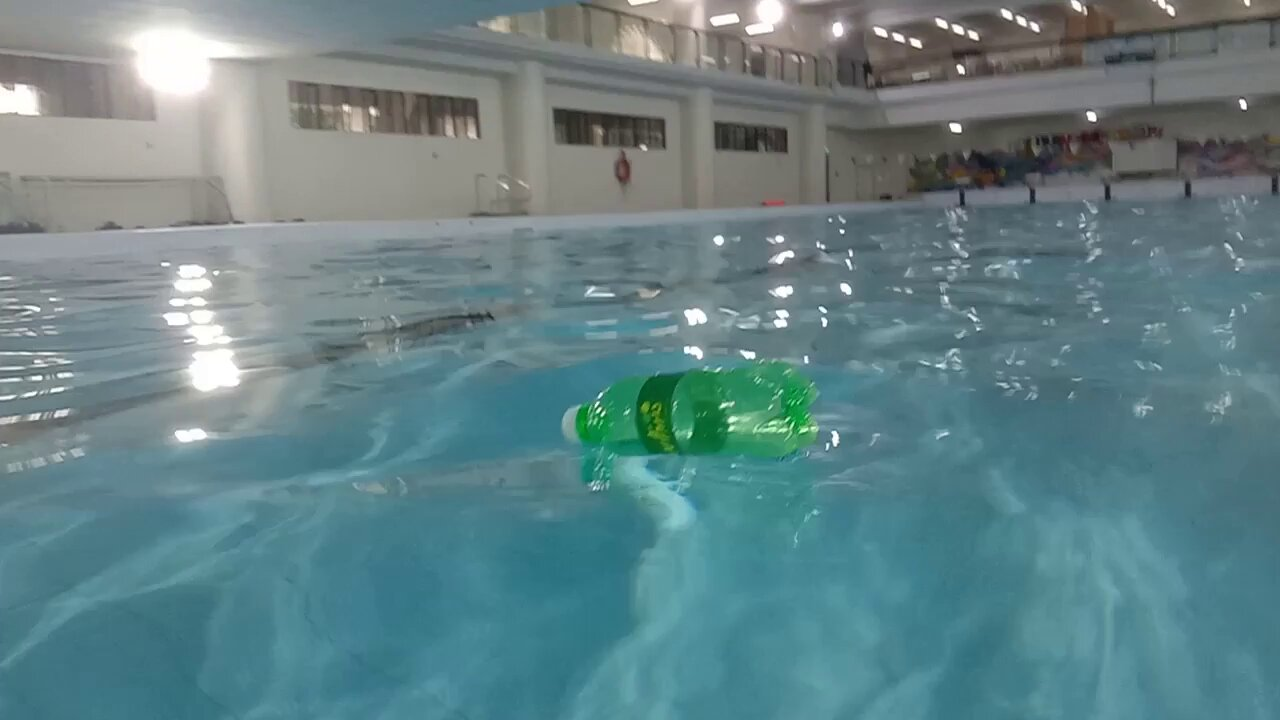plastic_bottle: (561, 364, 820, 462)
